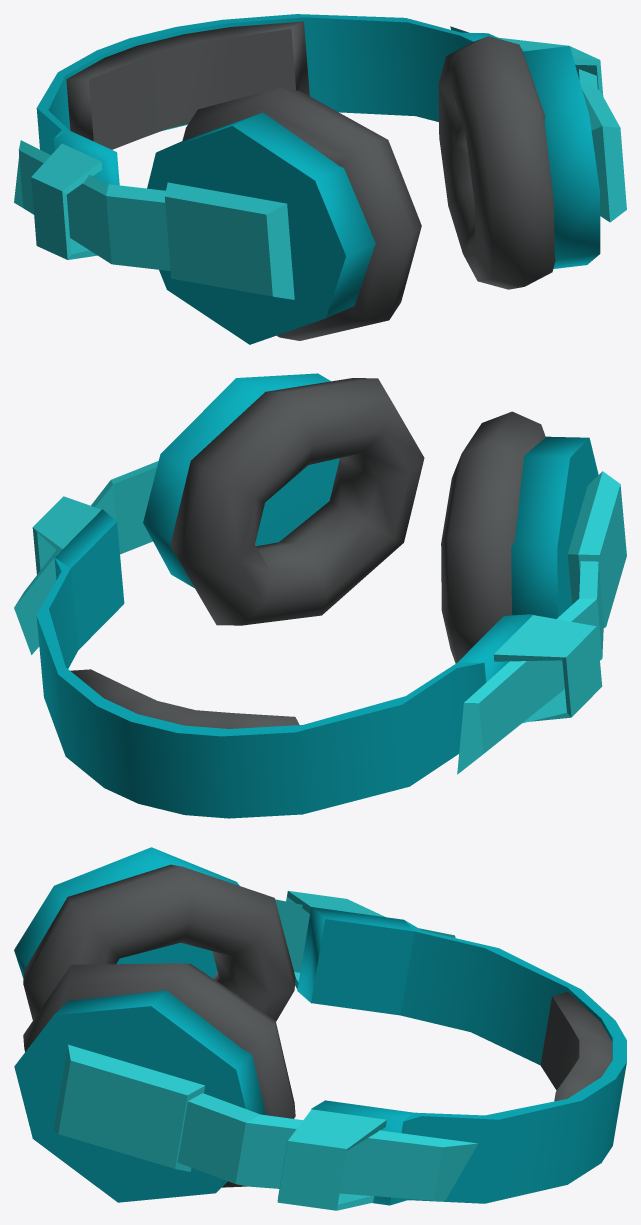
File: FoneDeOuvido.fbx
3 renders of one model, top to bottom at view 1: azimuth 30°, elevation 25°; view 2: azimuth 150°, elevation 25°; view 3: azimuth 270°, elevation 25°, orthographic. The views are drawn at different scales.
Parts seen in each view (by area): view 1: FonesDeOuvido; view 2: FonesDeOuvido; view 3: FonesDeOuvido.
Boxes of the visible parts, x1,y1,x2,y2 form: FonesDeOuvido: (14, 14, 626, 344); FonesDeOuvido: (14, 373, 626, 818); FonesDeOuvido: (14, 847, 626, 1210).
Size of the model in its own units: 27.51 by 11.69 by 28.49.
